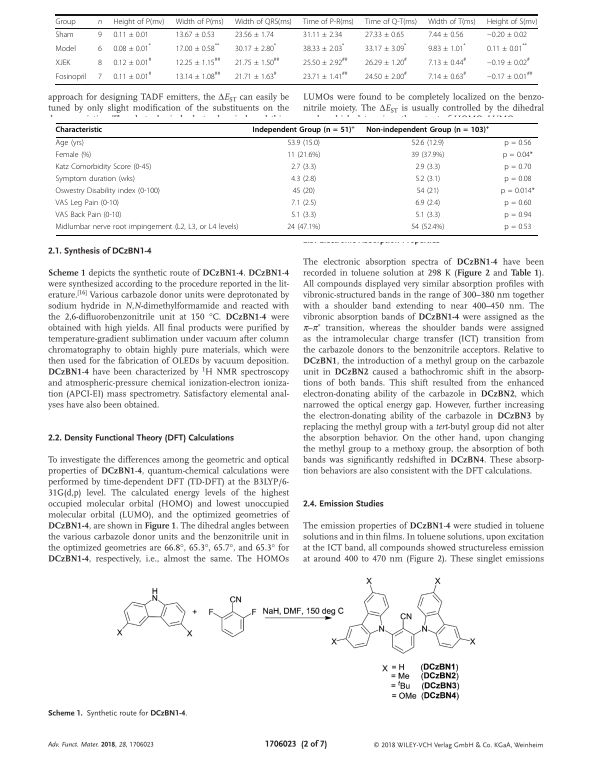borderless: (54, 122, 538, 235), (55, 13, 538, 84)
cell: (55, 223, 239, 232), (365, 124, 490, 135), (252, 124, 356, 135), (55, 187, 161, 197), (55, 163, 152, 173), (55, 175, 136, 185), (55, 211, 122, 220), (55, 199, 120, 208), (234, 17, 293, 26), (486, 70, 533, 81), (175, 56, 221, 67), (234, 56, 280, 67), (302, 56, 348, 67), (175, 70, 221, 81), (302, 70, 348, 81), (175, 42, 220, 53), (486, 56, 531, 67), (364, 17, 418, 26), (364, 56, 408, 67), (234, 70, 278, 81), (364, 70, 408, 81), (112, 17, 165, 26), (302, 17, 355, 26), (234, 42, 277, 53), (302, 42, 345, 53), (364, 42, 407, 53), (486, 17, 538, 26), (486, 42, 528, 53), (427, 17, 477, 26), (175, 17, 224, 26), (112, 42, 152, 53), (427, 42, 467, 53), (112, 56, 152, 67), (427, 56, 467, 67), (112, 70, 152, 81), (427, 70, 467, 81), (55, 126, 103, 135), (486, 30, 528, 39), (55, 151, 92, 161), (175, 30, 216, 39), (234, 30, 275, 39), (302, 30, 343, 39), (364, 30, 405, 39), (500, 187, 536, 197), (286, 139, 321, 149), (286, 151, 321, 161), (410, 151, 445, 161), (112, 30, 150, 39), (411, 139, 445, 149), (427, 30, 464, 39), (502, 151, 534, 161), (286, 223, 321, 232), (410, 223, 445, 232), (55, 139, 85, 149), (503, 139, 532, 149), (503, 163, 532, 173), (503, 175, 532, 185), (55, 72, 87, 81), (290, 163, 317, 173), (414, 163, 441, 173), (290, 175, 317, 185), (414, 175, 441, 185), (503, 199, 532, 208), (503, 211, 532, 220), (503, 223, 532, 232), (290, 199, 317, 208), (414, 199, 441, 208), (290, 211, 317, 220), (414, 211, 441, 220), (292, 187, 316, 197), (416, 187, 440, 197), (55, 44, 77, 53), (55, 17, 76, 26), (55, 30, 74, 39), (55, 58, 71, 67), (97, 30, 103, 39), (97, 44, 103, 53), (97, 58, 103, 67), (97, 72, 103, 81), (97, 19, 103, 25)
